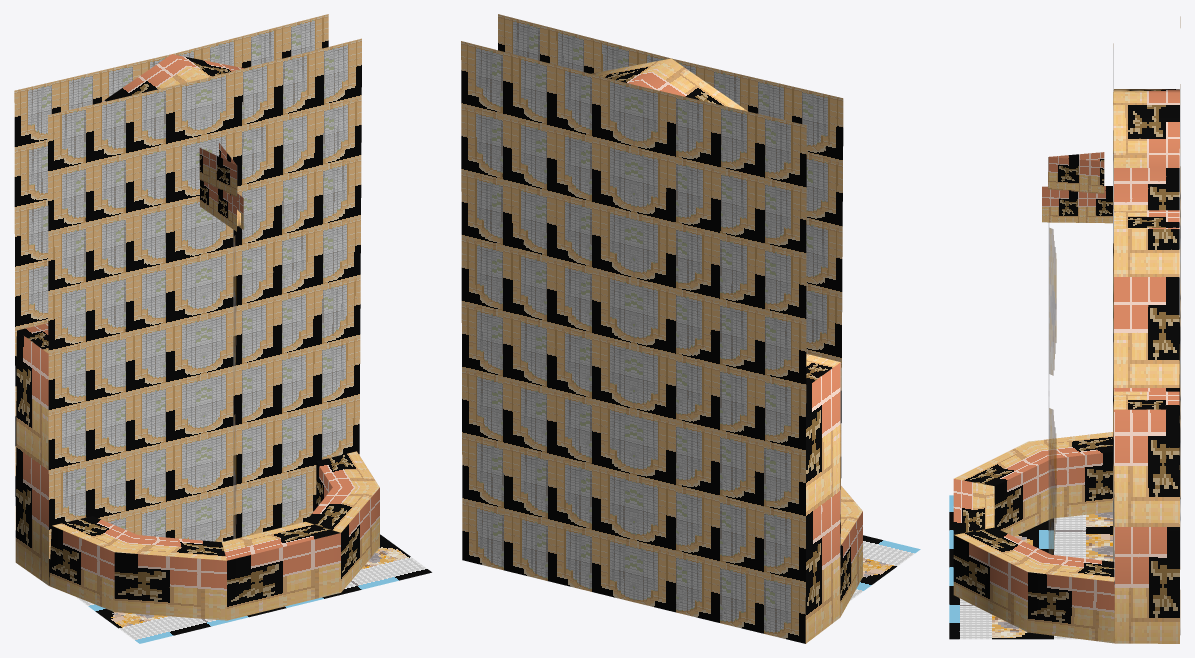
The picture shows the model from 3 angles, left to right: view 1: azimuth 30°, elevation 25°; view 2: azimuth 150°, elevation 25°; view 3: azimuth 270°, elevation 25°; orthographic projection. The views are drawn at different scales.
Parts seen in each view (by area): view 1: 3746kg_ga_05; view 2: 3746kg_ga_05; view 3: 3746kg_ga_05.
Part boxes in pixels (<box>): 3746kg_ga_05: <box>14,14,431,643</box>; 3746kg_ga_05: <box>461,14,920,643</box>; 3746kg_ga_05: <box>949,16,1180,643</box>.
Size of the model in its own units: 0.946 by 1.36 by 0.5975.
4 materials, 4 textured.
